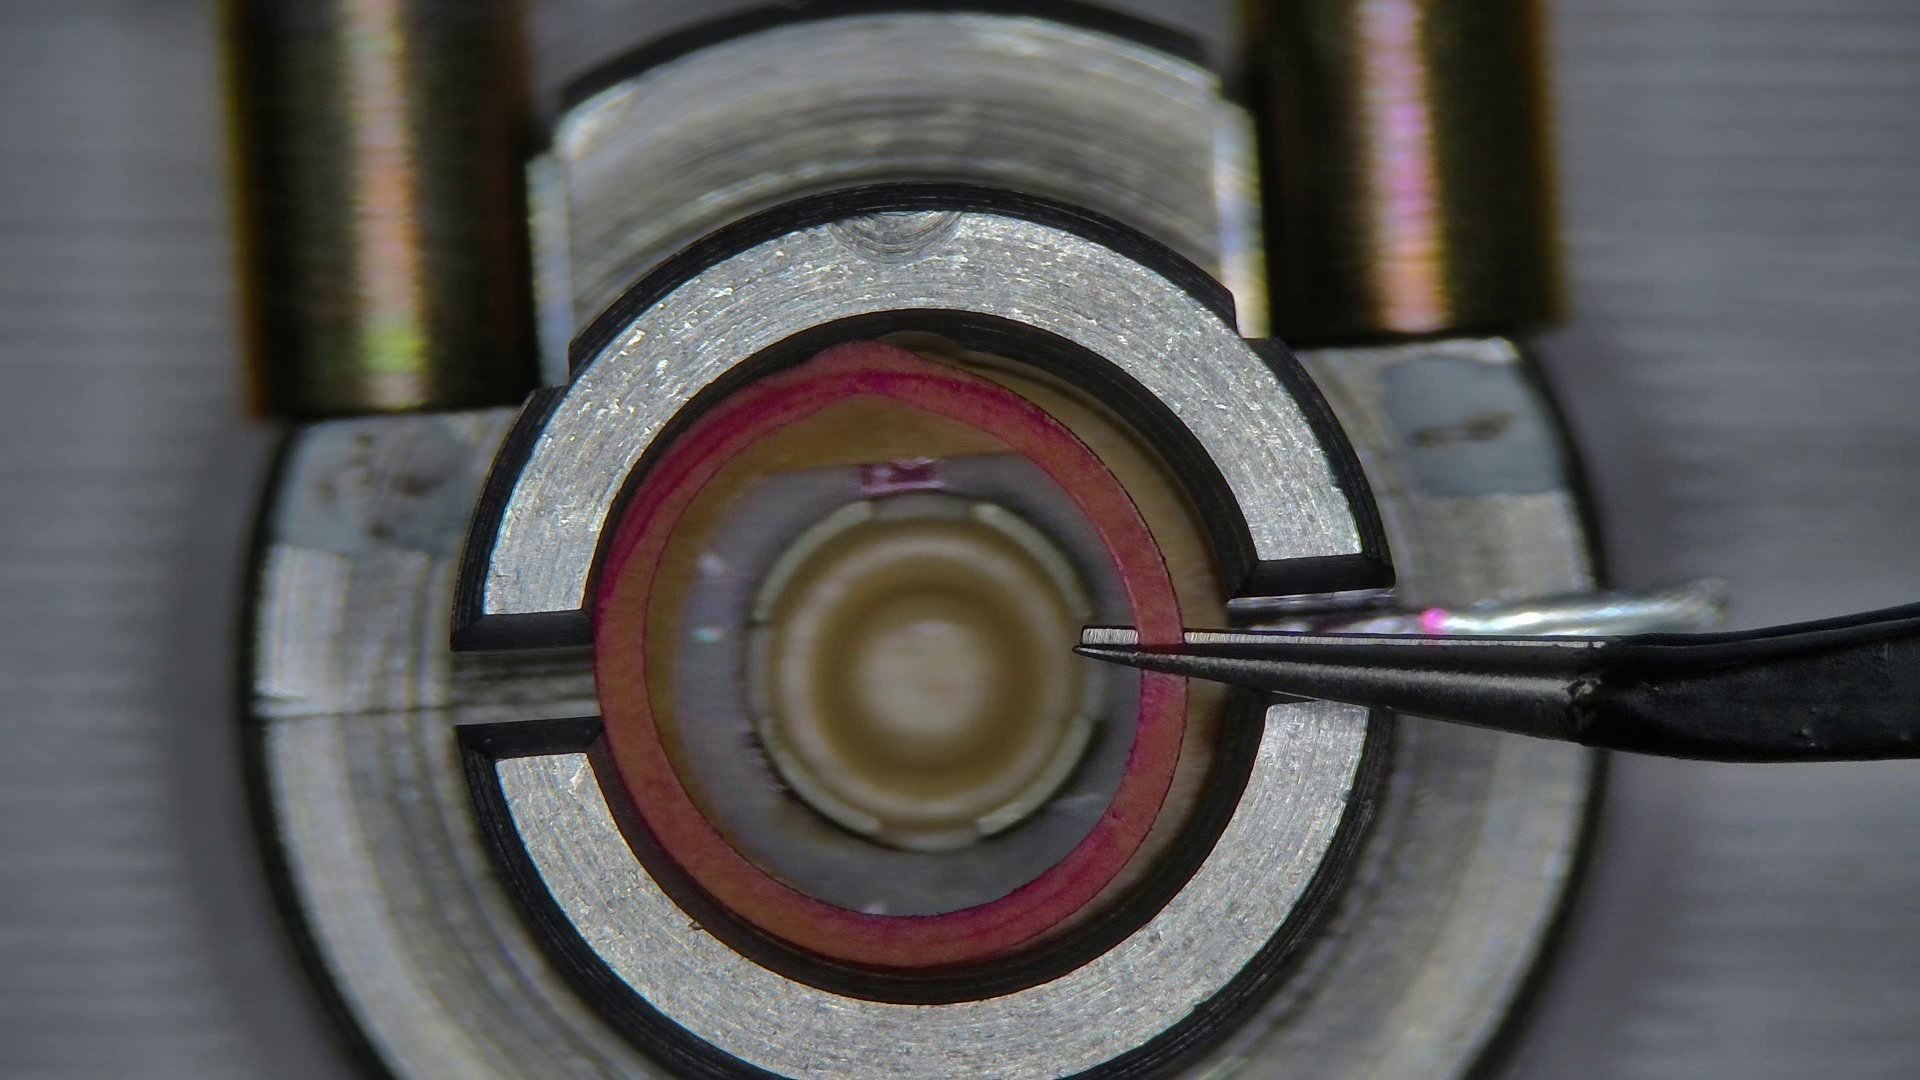GreyOring: (596, 343, 1192, 968)
YellowOring: (659, 458, 1138, 915)
redOring: (638, 392, 1009, 779), (975, 375, 1221, 632), (1141, 675, 1222, 861), (688, 793, 692, 798), (702, 808, 703, 810)
